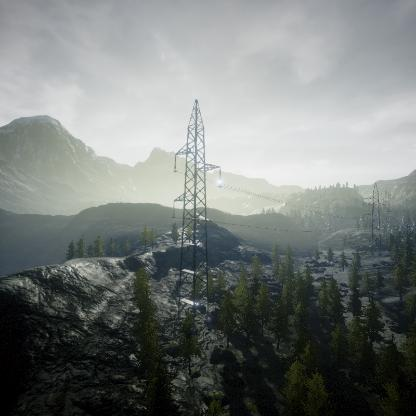tower: (171, 99, 224, 325), (359, 181, 390, 258)
